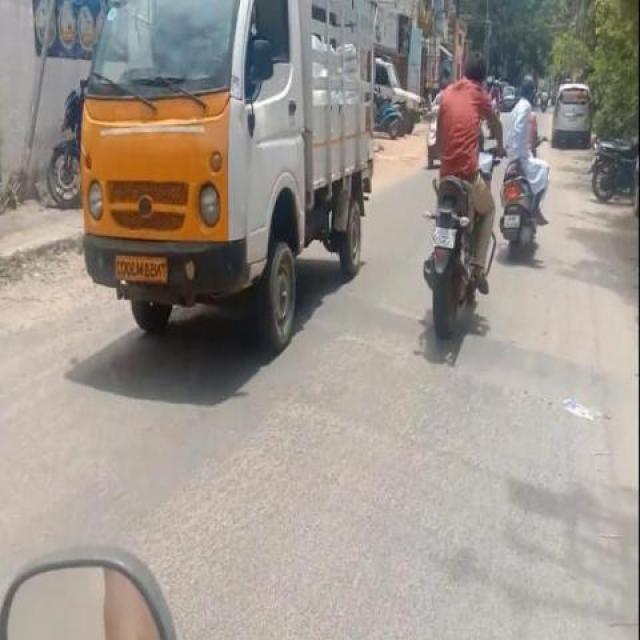Unmarked Bump: (460, 324, 640, 412), (294, 290, 426, 357)
